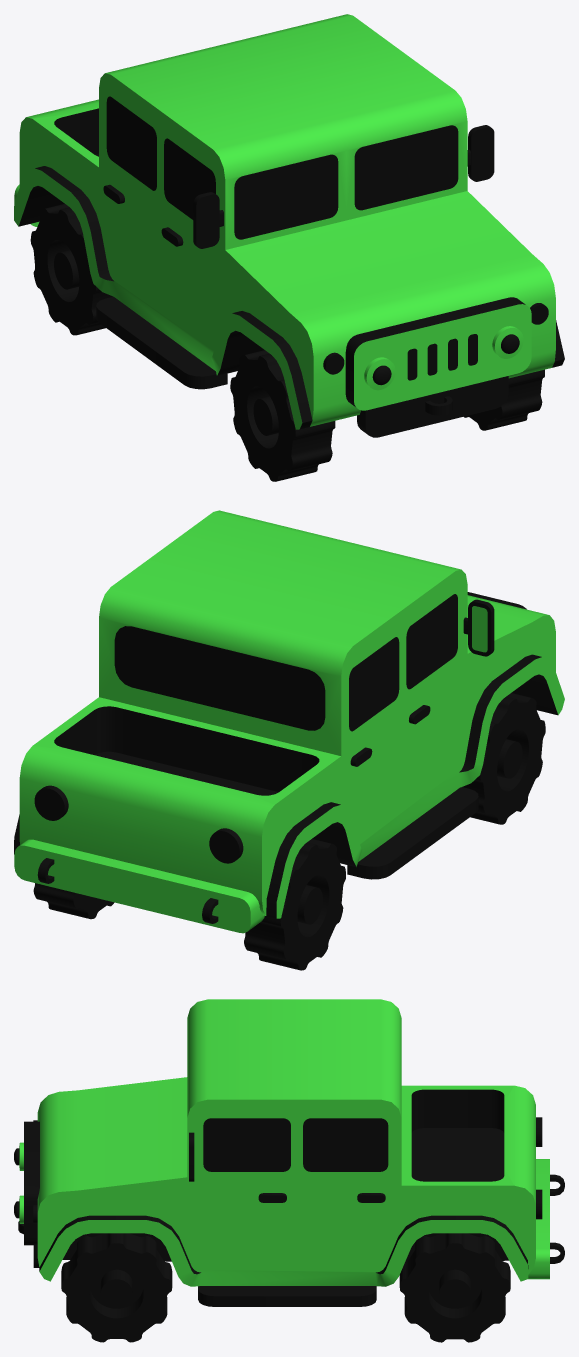
Rendered from Humvee.fbx.
3 renders of one model, top to bottom at view 1: azimuth 30°, elevation 25°; view 2: azimuth 150°, elevation 25°; view 3: azimuth 270°, elevation 25°, orthographic. The views are drawn at different scales.
Visible parts, largest first — view 1: Humvee, Wheel2, Wheel1Back, Wheel1; view 2: Humvee, Wheel1Back, Wheel2; view 3: Humvee, Wheel1, Wheel1Back.
Part boxes in pixels (x1,y1,x2,y2): Humvee: [14, 14, 564, 437]; Wheel2: [230, 350, 335, 481]; Wheel1Back: [30, 204, 112, 335]; Wheel1: [464, 369, 544, 430]; Humvee: [14, 510, 564, 933]; Wheel1Back: [33, 839, 345, 970]; Wheel2: [462, 693, 545, 824]; Humvee: [14, 999, 564, 1306]; Wheel1: [61, 1233, 172, 1342]; Wheel1Back: [399, 1233, 510, 1342].
Bounding box in the file's own units: 272 × 249 × 514.
